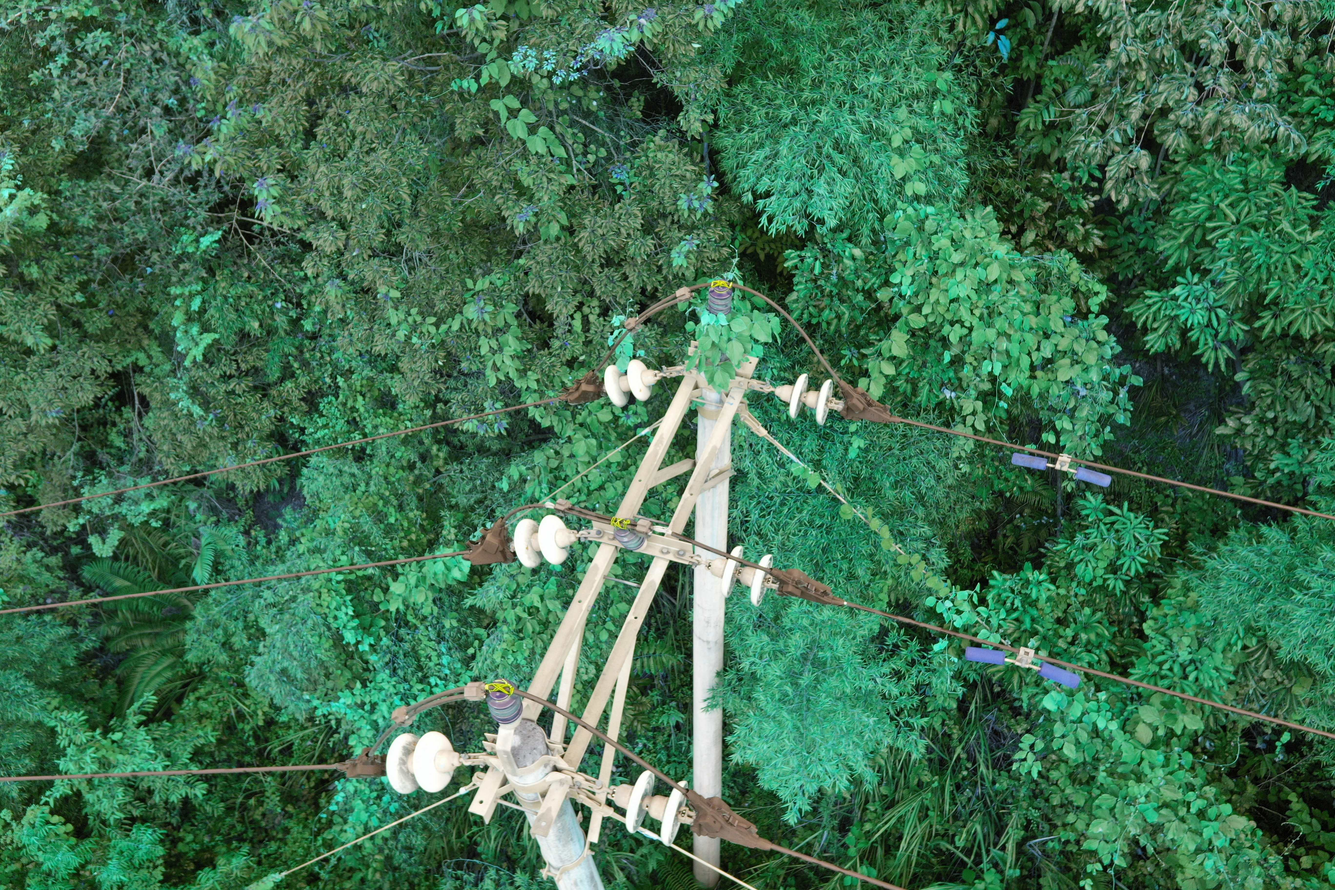severe_soiling_no_discharge_whole: (605, 769, 690, 849), (383, 728, 461, 798), (704, 545, 774, 606), (774, 371, 834, 430), (513, 514, 577, 569), (604, 358, 662, 407), (482, 677, 524, 729), (610, 516, 648, 553), (706, 277, 734, 318)
